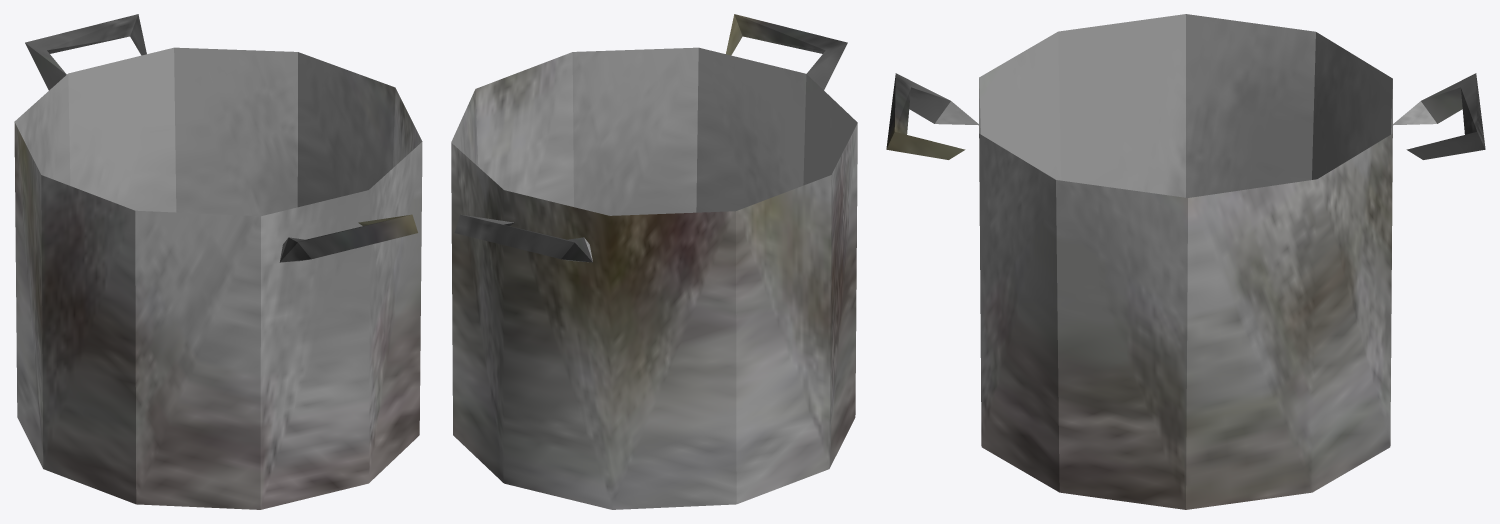
The model's file is saucepan-tall.lod1.glb.
3 views of the same model, side by side, from view 1: azimuth 30°, elevation 25°; view 2: azimuth 150°, elevation 25°; view 3: azimuth 270°, elevation 25° (orthographic). The views are drawn at different scales.
Parts seen in each view (by area): view 1: saucepan-tall; view 2: saucepan-tall; view 3: saucepan-tall.
Part boxes in pixels (x1,y1,x2,y2): saucepan-tall: (14, 14, 422, 509); saucepan-tall: (451, 14, 857, 509); saucepan-tall: (886, 14, 1485, 509).
Bounding box in the file's own units: 0.2499 × 0.2005 × 0.3436.
1 material, 1 textured.
